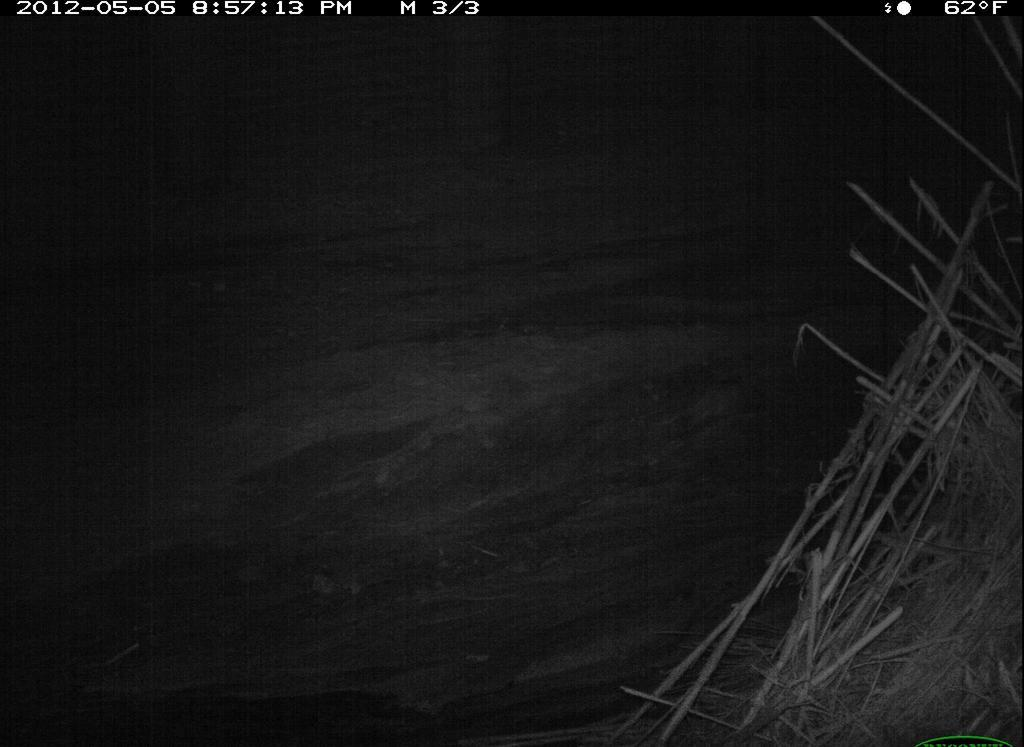opossum: (655, 375, 782, 448)
